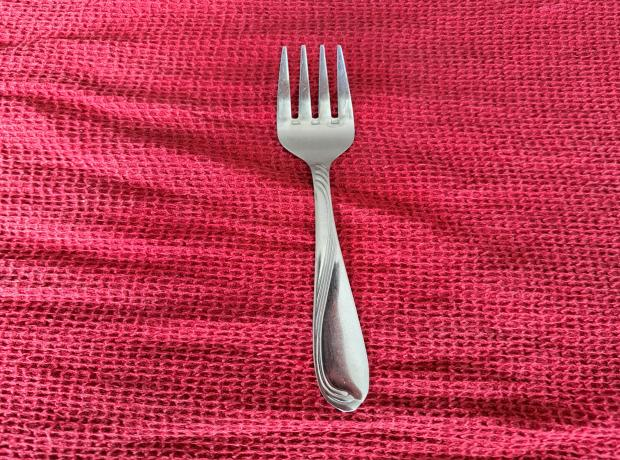metal: (272, 44, 373, 415)
